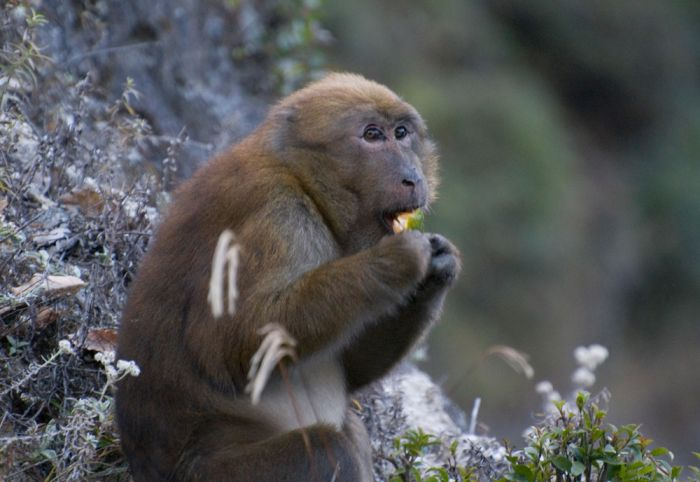monkey: (100, 67, 483, 482)
